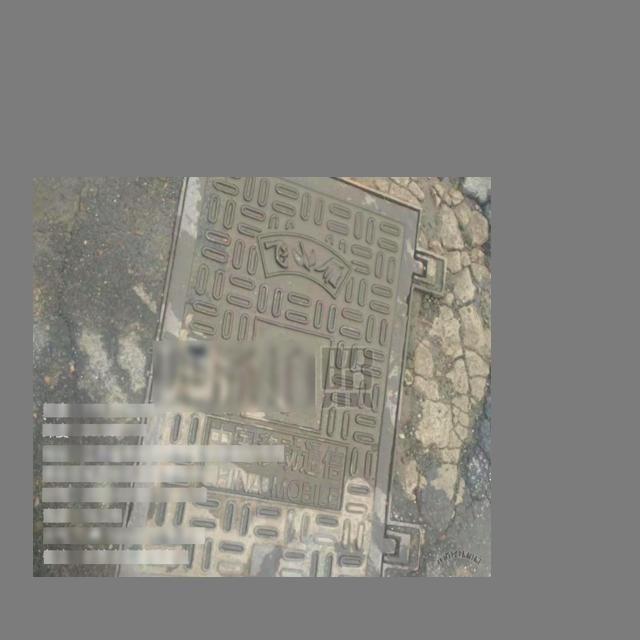good: (111, 177, 447, 577)
